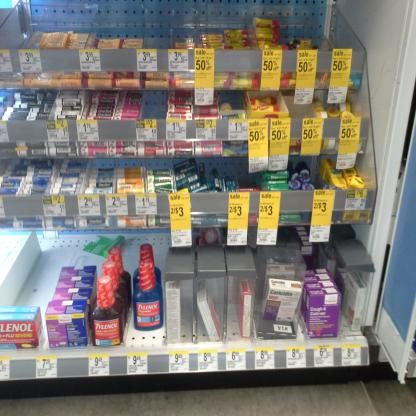Void: (7, 234, 50, 304), (141, 92, 166, 142), (149, 9, 172, 48)
